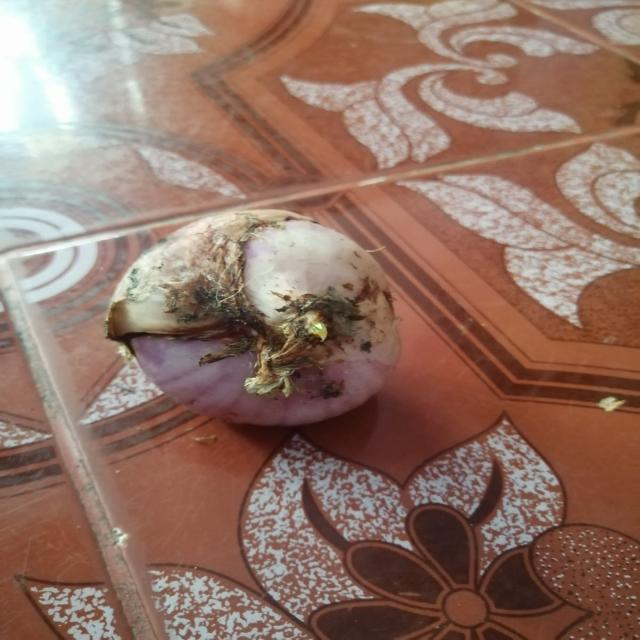rotten: (158, 254, 366, 348)
